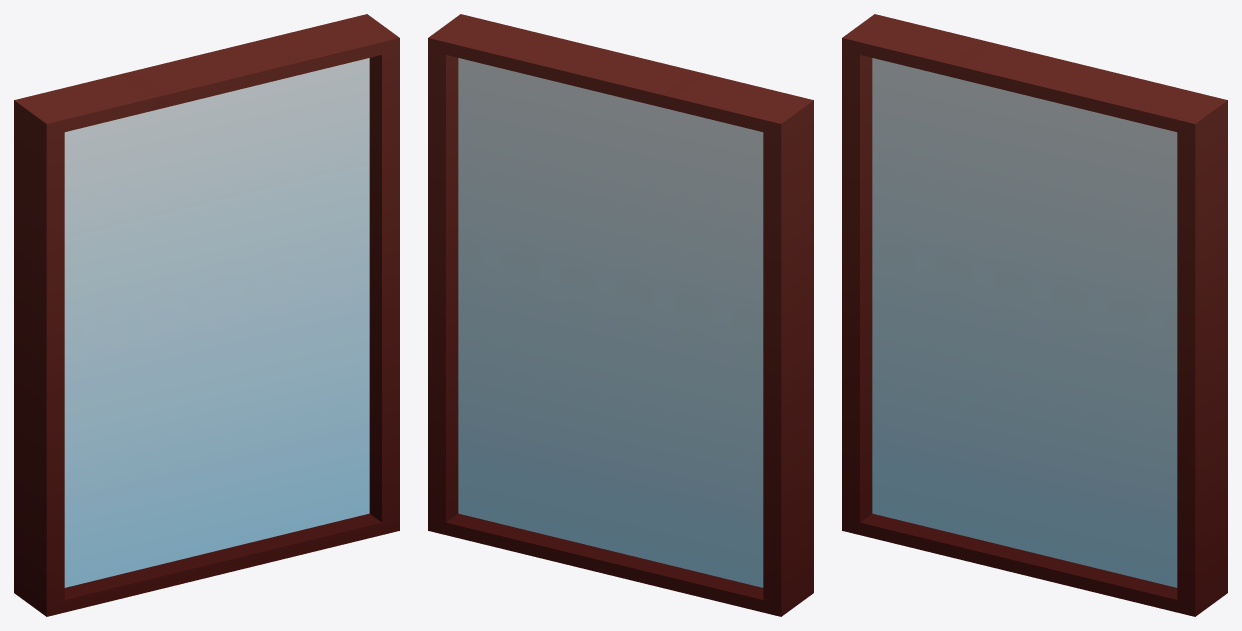
The model's file is SM_WindowRight.fbx.
The picture shows the model from 3 angles, left to right: view 1: azimuth 30°, elevation 25°; view 2: azimuth 150°, elevation 25°; view 3: azimuth 330°, elevation 25°; orthographic projection.
Visible parts, largest first — view 1: Cube.005; view 2: Cube.005; view 3: Cube.005.
Boxes of the visible parts, x1,y1,x2,y2 form: Cube.005: [14, 14, 399, 616]; Cube.005: [428, 14, 813, 616]; Cube.005: [842, 14, 1227, 616].
Size of the model in its own units: 0.75 by 1 by 0.1202.
